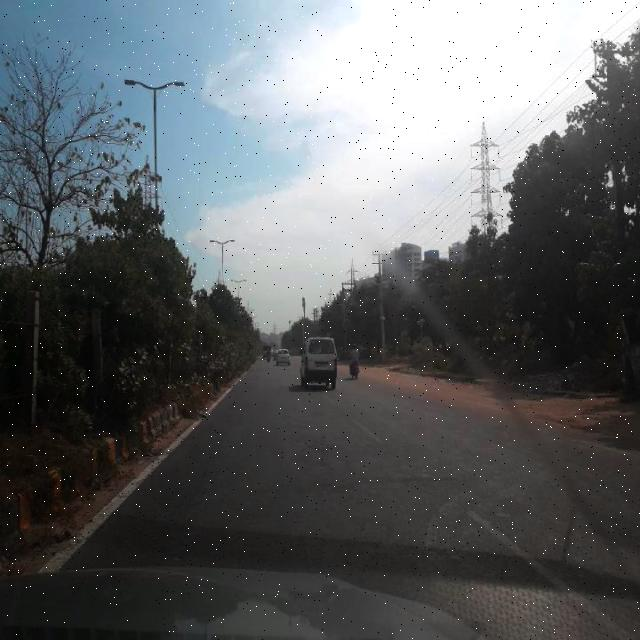D20: (105, 416, 496, 563)
D44: (463, 486, 621, 636), (347, 408, 390, 444)
